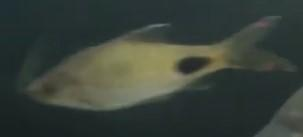Black Spotted Barb: (16, 11, 291, 126)
